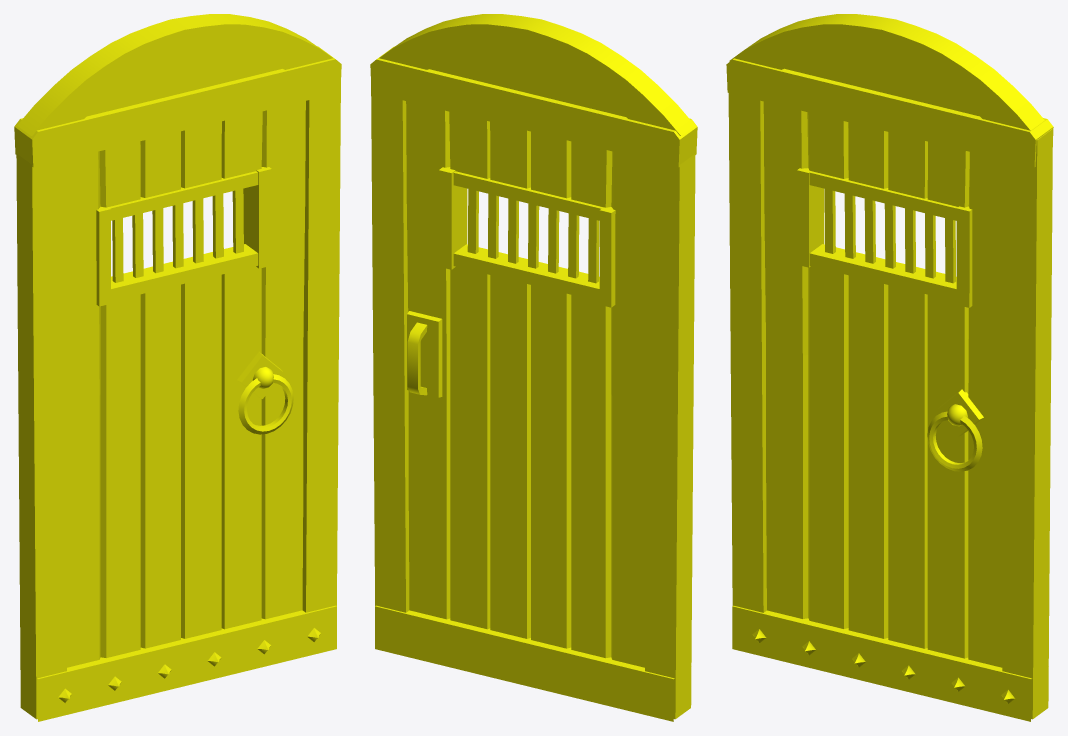
File: door-8-round.glb
3 renders of one model, left to right at view 1: azimuth 30°, elevation 25°; view 2: azimuth 150°, elevation 25°; view 3: azimuth 330°, elevation 25°, orthographic.
Visible parts, largest first — view 1: Door_8_Round; view 2: Door_8_Round; view 3: Door_8_Round.
Part boxes in pixels (x1=…): Door_8_Round: x1=14, y1=14, x2=341, y2=721; Door_8_Round: x1=370, y1=14, x2=697, y2=721; Door_8_Round: x1=726, y1=14, x2=1053, y2=721.
Size of the model in its own units: 1.15 by 2.32 by 0.1995.
2 materials, 2 textured.
